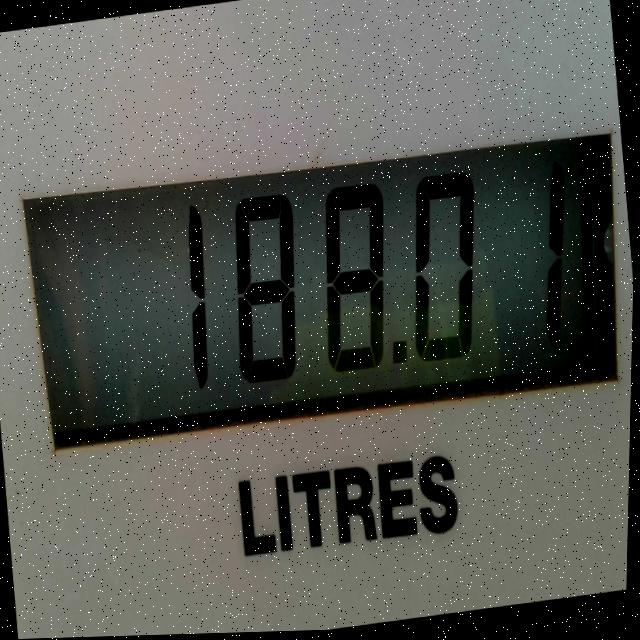.: (134, 183, 238, 407), (510, 145, 588, 354), (384, 329, 423, 386)
0: (398, 170, 492, 367)
8: (306, 175, 403, 393), (211, 185, 309, 395)
